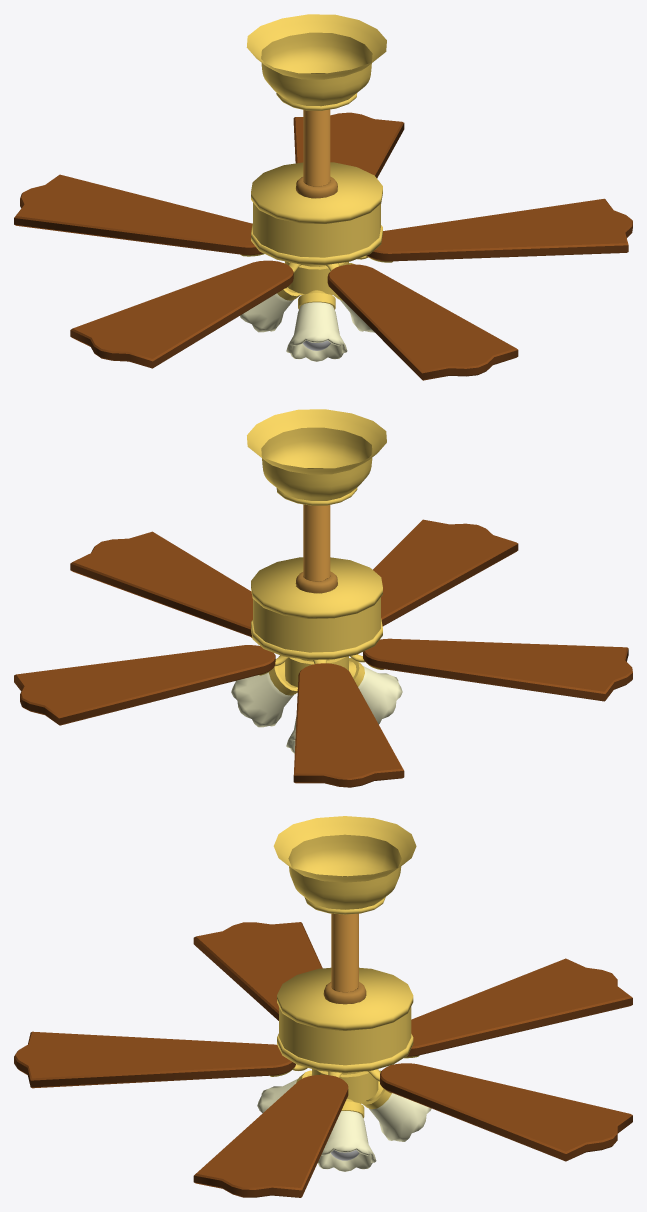
Rendered from CeilingFan.fbx.
3 views of the same model, one above another, from view 1: azimuth 30°, elevation 25°; view 2: azimuth 150°, elevation 25°; view 3: azimuth 270°, elevation 25° (orthographic). The views are drawn at different scales.
Visible parts, largest first — view 1: Blades, CeilingFan, Lights.001, Lights; view 2: Blades, CeilingFan, Lights.001, Lights; view 3: Blades, CeilingFan, Lights.001, Lights.
Boxes of the visible parts, left/top/right/bottom form: Blades: left=14, top=112, right=632, bottom=380; CeilingFan: left=246, top=14, right=386, bottom=295; Lights.001: left=240, top=293, right=374, bottom=361; Lights: left=277, top=263, right=354, bottom=309; Blades: left=14, top=519, right=632, bottom=787; CeilingFan: left=247, top=409, right=386, bottom=687; Lights.001: left=231, top=666, right=402, bottom=753; Lights: left=269, top=658, right=364, bottom=695; Blades: left=14, top=922, right=632, bottom=1197; CeilingFan: left=273, top=816, right=416, bottom=1103; Lights.001: left=257, top=1079, right=431, bottom=1171; Lights: left=296, top=1070, right=391, bottom=1118.
Bounding box in the file's own units: 841 × 447 × 822.
2 materials, 1 textured.
